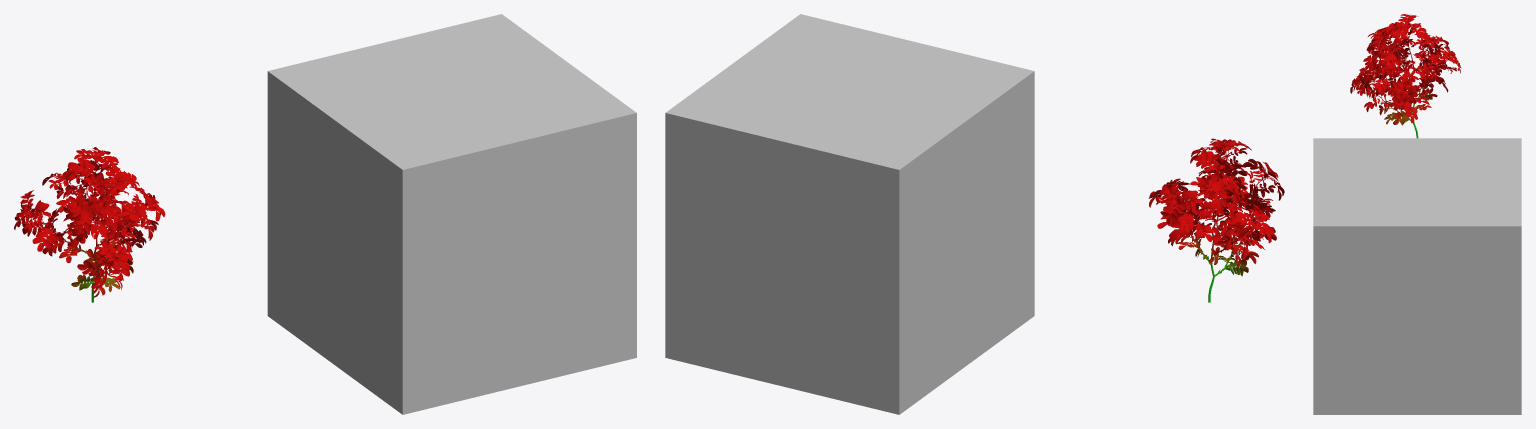
File: planta.gltf
The picture shows the model from 3 angles, left to right: view 1: azimuth 30°, elevation 25°; view 2: azimuth 150°, elevation 25°; view 3: azimuth 270°, elevation 25°; orthographic projection. The views are drawn at different scales.
Parts seen in each view (by area): view 1: Cube, _b9hb_Var1_LOD0; view 2: Cube, _b9hb_Var1_LOD0; view 3: Cube, _b9hb_Var1_LOD0.
Boxes of the visible parts, x1,y1,x2,y2 form: Cube: (267,14,636,414); _b9hb_Var1_LOD0: (14,147,165,302); Cube: (665,14,1034,414); _b9hb_Var1_LOD0: (1148,138,1284,302); Cube: (1313,138,1521,414); _b9hb_Var1_LOD0: (1350,14,1460,138).
Bounding box in the file's own units: 4.67 × 2.28 × 2.
